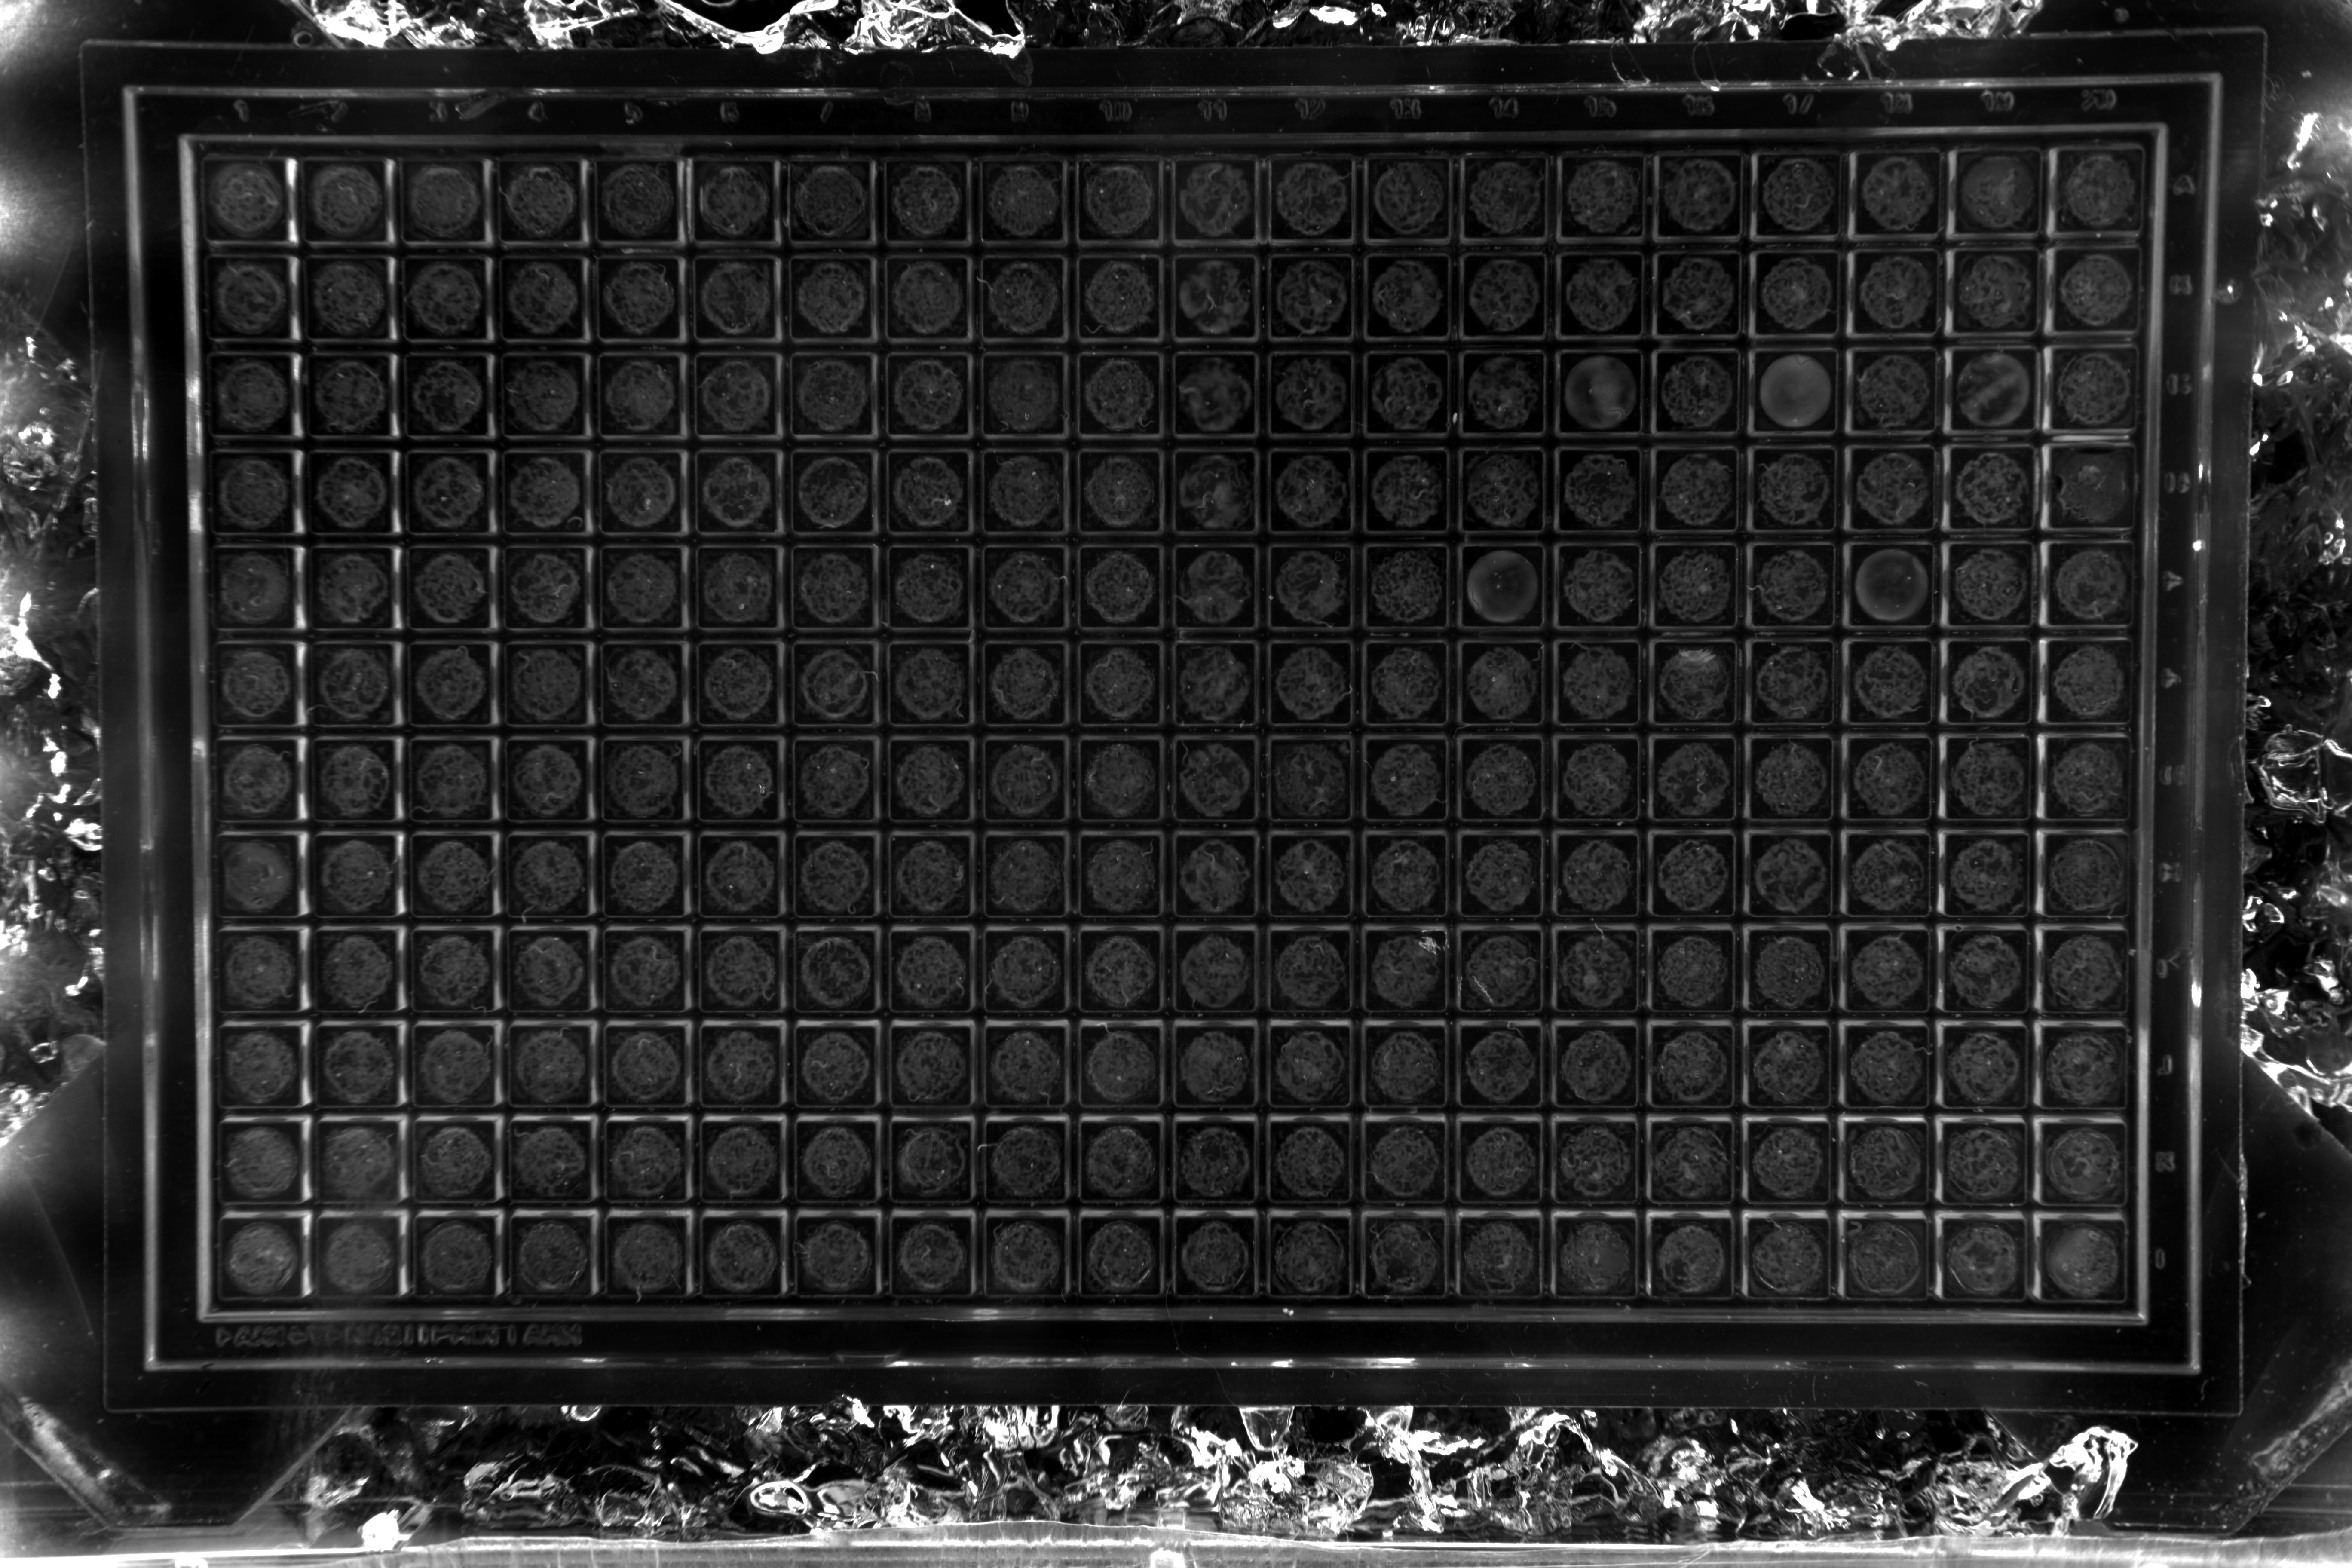WM_well: (395, 535, 485, 623), (588, 338, 677, 425), (688, 436, 777, 523), (1368, 1209, 1456, 1298), (595, 924, 682, 1011), (686, 240, 773, 327), (787, 534, 875, 621), (882, 142, 969, 229), (982, 436, 1069, 523), (1078, 142, 1165, 229), (1078, 338, 1165, 425), (1176, 1017, 1263, 1104), (1272, 822, 1360, 910), (1368, 920, 1456, 1008), (1370, 434, 1458, 521), (1372, 238, 1459, 325), (1466, 726, 1554, 814), (1468, 334, 1556, 422), (1568, 334, 1655, 422), (1664, 530, 1752, 618), (1759, 1115, 1846, 1202), (1760, 822, 1848, 910), (1862, 528, 1949, 616), (1956, 1115, 2044, 1202)
